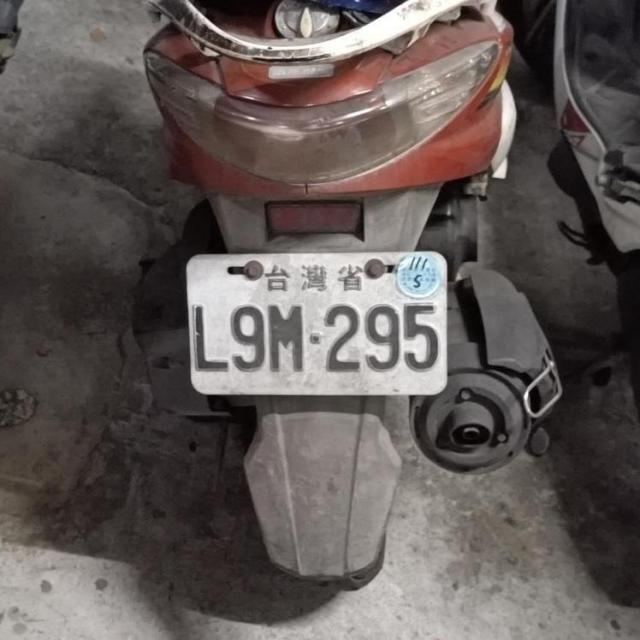W: (180, 239, 453, 398)
